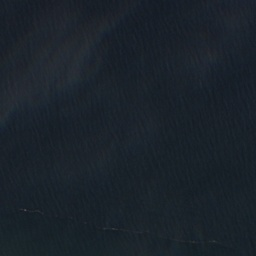Marine Debris: (19, 208, 92, 227), (95, 225, 153, 235), (169, 236, 221, 246)
